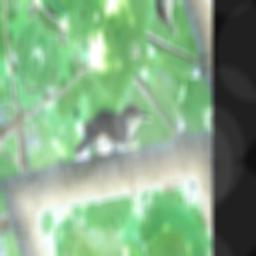Cuckoo: (71, 67, 153, 204)
